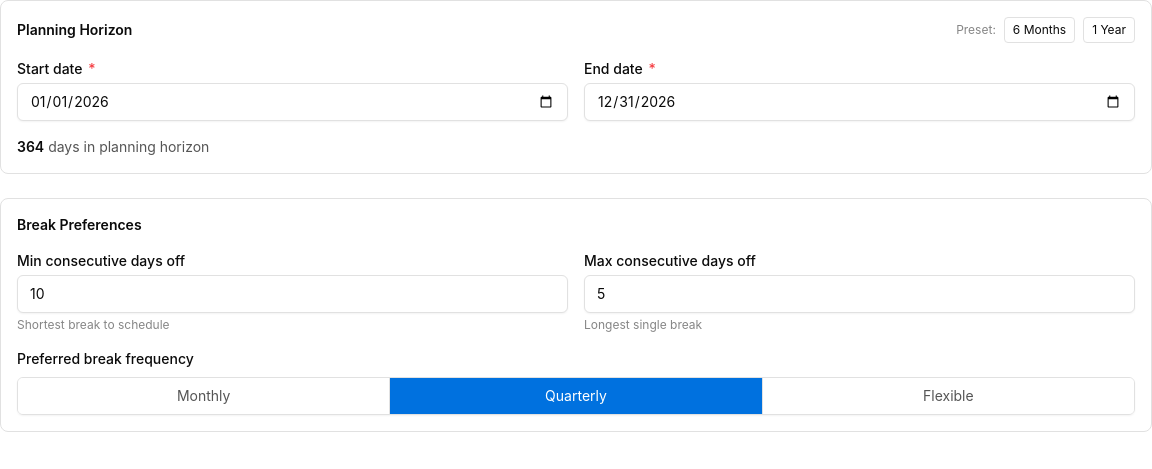
Scenario: PreferencesForm › min/max days validation › shows error when max < min
The width and height of the screenshot is (1152, 469).
Click the number field labelled "Max consecutive days off".
click(860, 294)  # box x1=584 y1=275 x2=1135 y2=313
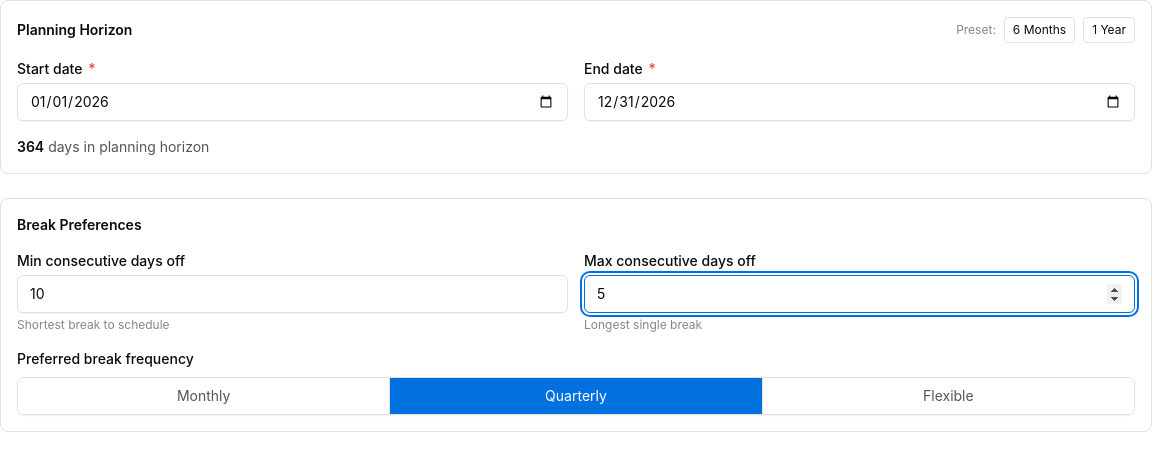
Press Tab
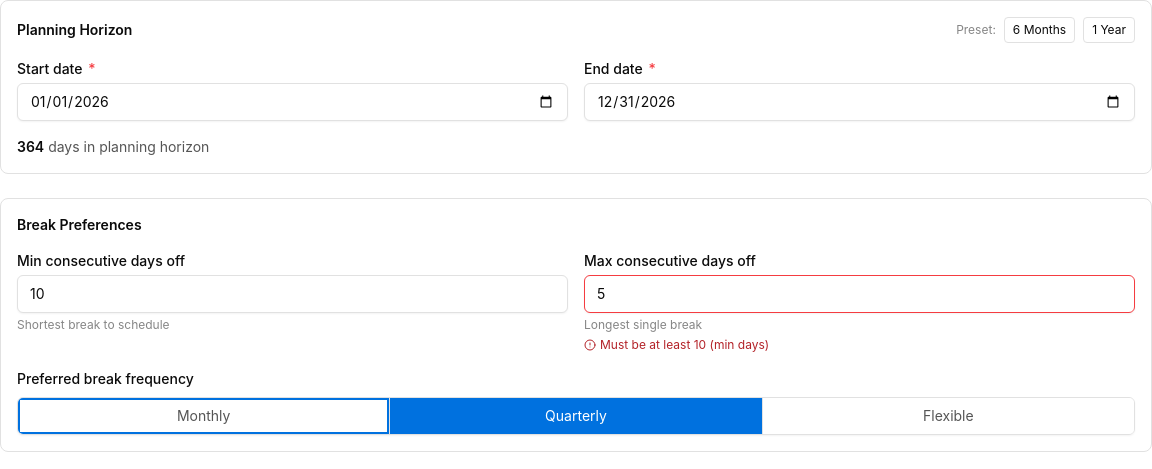
Check: the text "Must be at least 10 (min days)" is shown, box x1=584 y1=337 x2=769 y2=352
